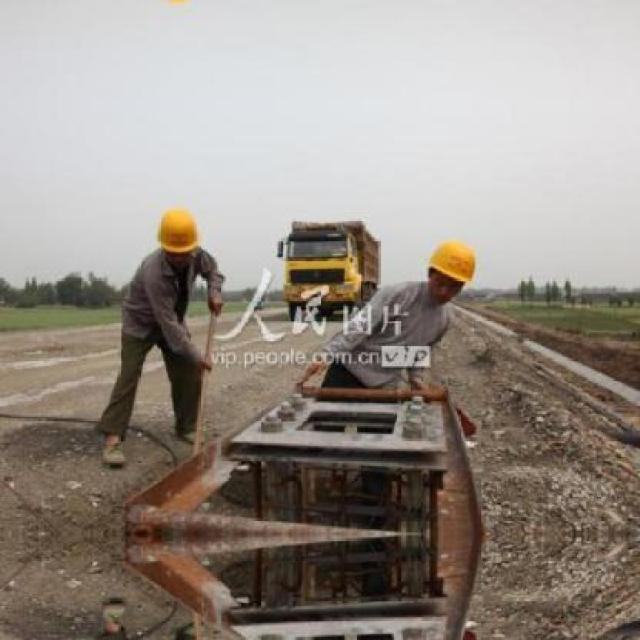helmet: (149, 197, 214, 258), (416, 232, 482, 286)
